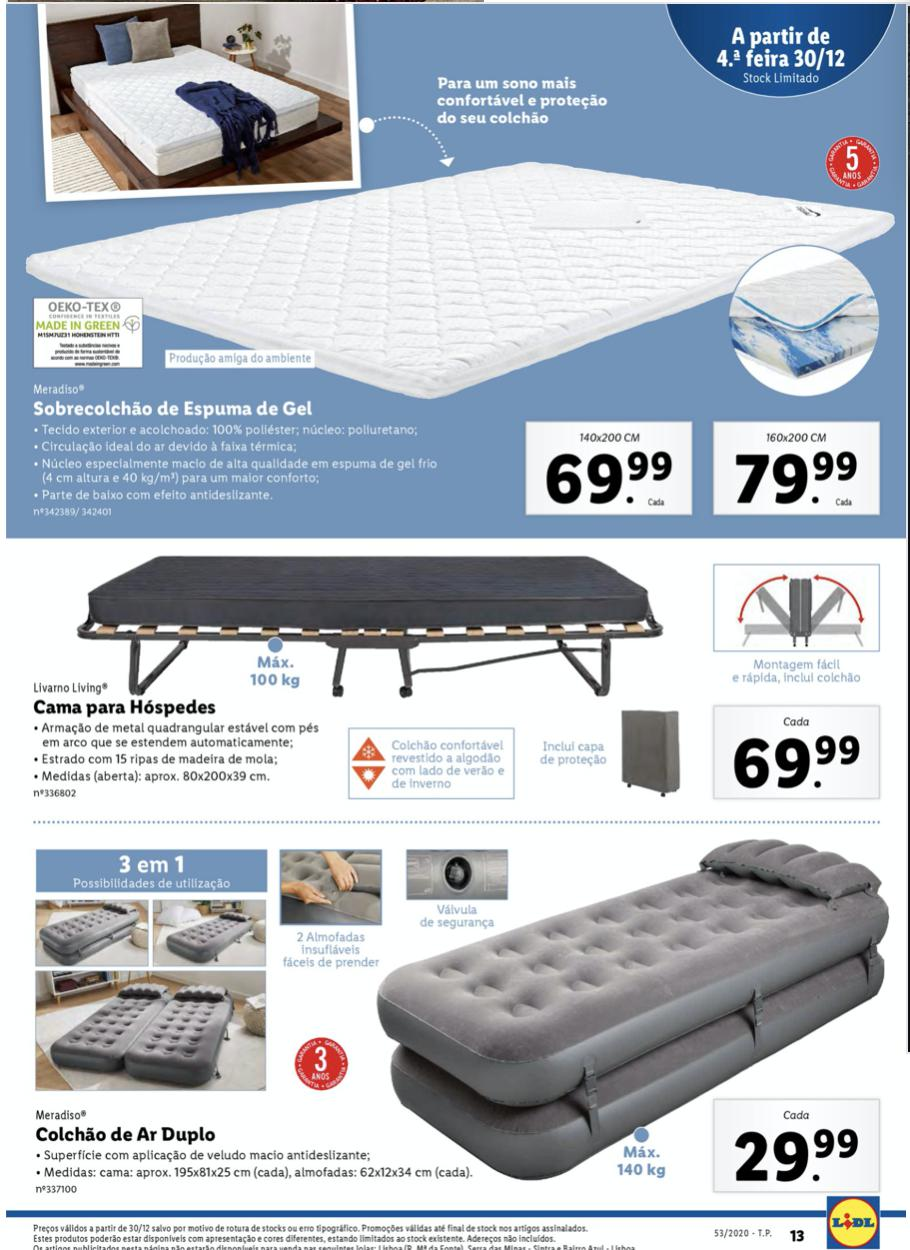name: (33, 395, 316, 423), (32, 1120, 224, 1149), (35, 695, 218, 721)
price: (726, 726, 875, 798), (539, 446, 683, 513), (727, 1118, 863, 1187), (727, 446, 864, 513)
product: (29, 13, 890, 532), (21, 835, 892, 1203), (21, 552, 892, 812)
